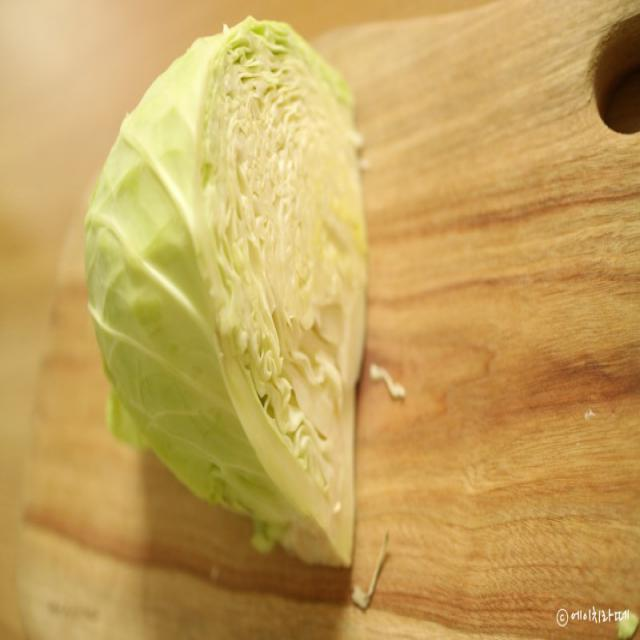cabbage: (83, 10, 374, 572)
